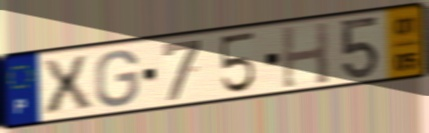5: (338, 15, 380, 81), (218, 29, 258, 95)
7: (161, 37, 204, 102)
G: (93, 47, 141, 110)
H: (280, 20, 332, 91)
X: (38, 52, 96, 117)
